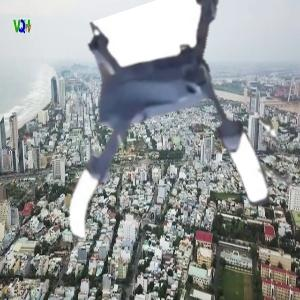drone: (30, 10, 271, 251)
